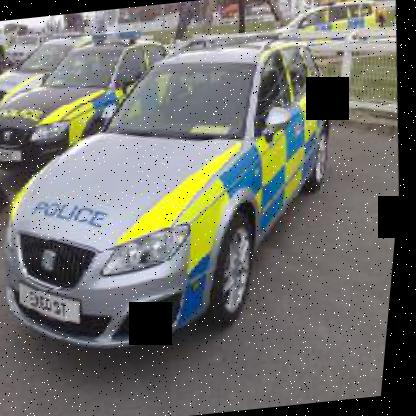emergency: (0, 34, 403, 362), (0, 22, 206, 171), (267, 0, 384, 50)
